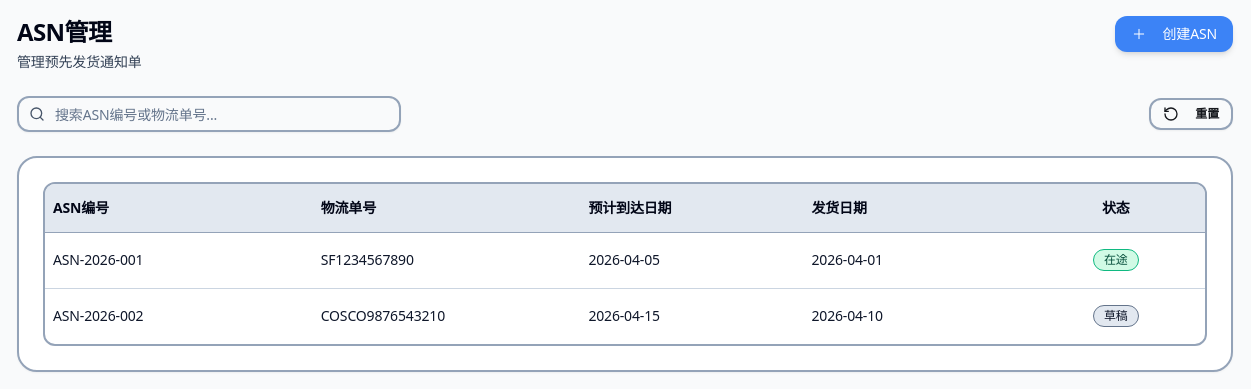
ASNListPage › 应该支持搜索功能
Expected: the text "ASN-2026-001" is shown, [45,232,313,288]
Type "ASN-2026-001" into the search field with placeholder "搜索ASN编号或物流单号..." at (209, 114), box [17,96,401,132]
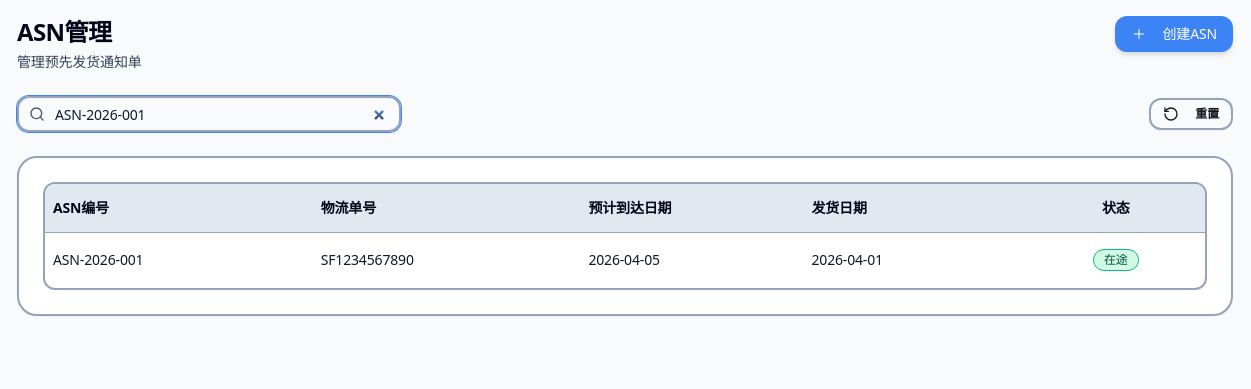
Expected: the text "ASN-2026-001" is shown, [45,232,313,288]
Expected: the text "ASN-2026-002" is gone
